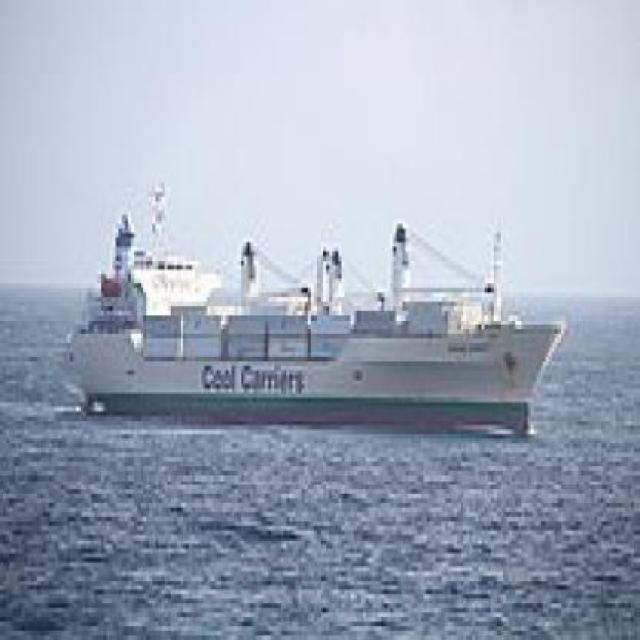container: (50, 156, 577, 458)
